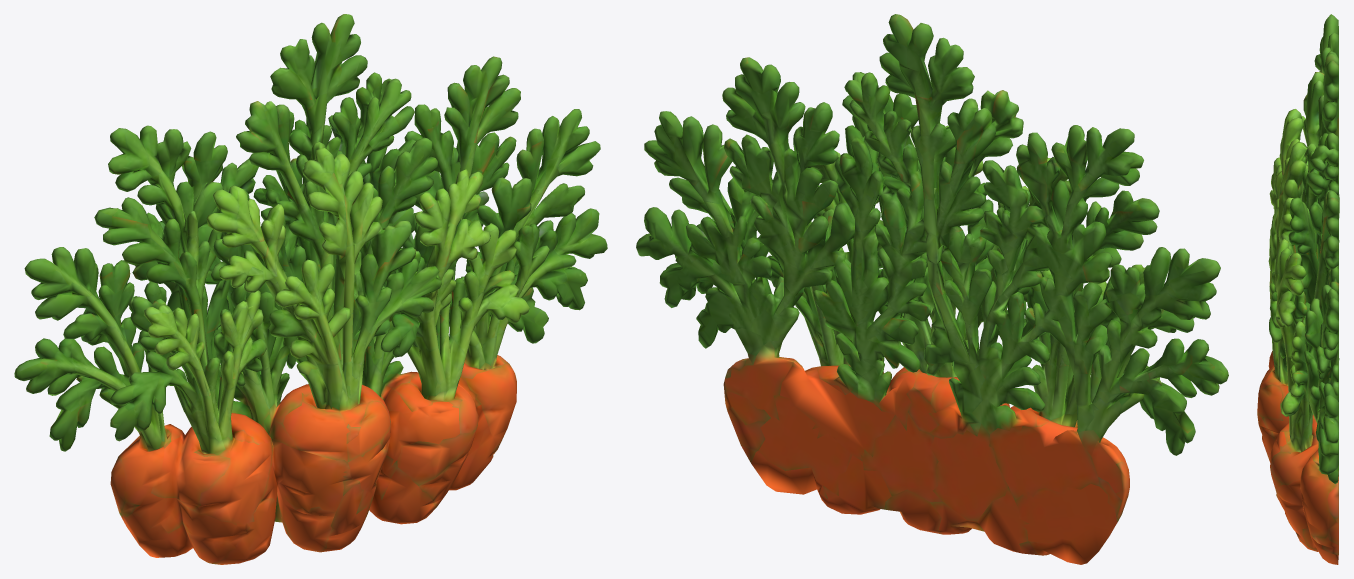
The model's file is carrot-mature.glb.
The picture shows the model from 3 angles, left to right: view 1: azimuth 30°, elevation 25°; view 2: azimuth 150°, elevation 25°; view 3: azimuth 270°, elevation 25°; orthographic projection. The views are drawn at different scales.
Size of the model in its own units: 1.9 by 1.58 by 0.2562.
1 material, 1 textured.
